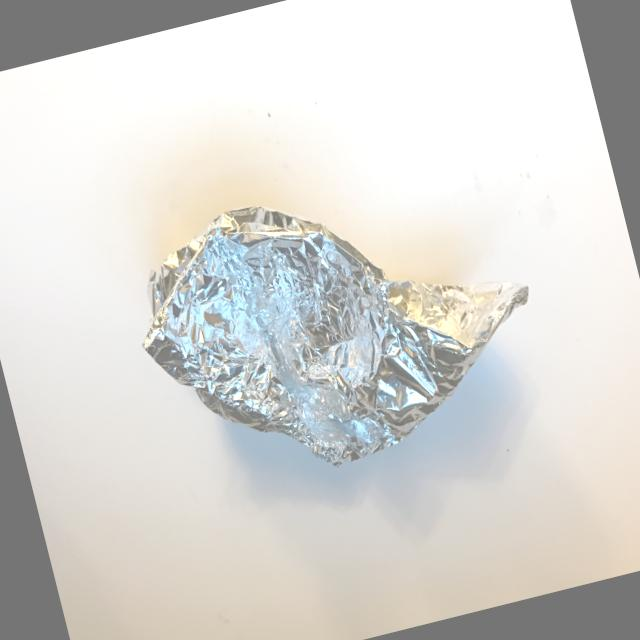Metal: (87, 84, 590, 545)
